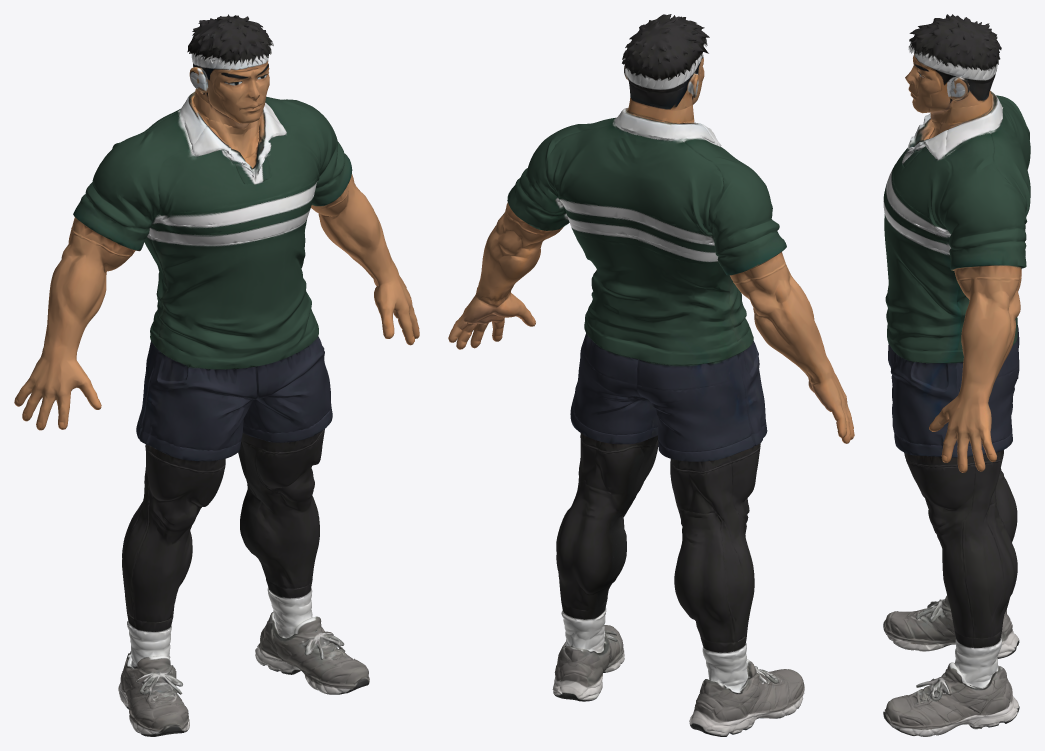
File: scrum_front.glb
3 views of the same model, side by side, from view 1: azimuth 30°, elevation 25°; view 2: azimuth 150°, elevation 25°; view 3: azimuth 270°, elevation 25° (orthographic).
Visible parts, largest first — view 1: tripo_node_26b4985a-06e5-4504-8efe-78fff79b02c9; view 2: tripo_node_26b4985a-06e5-4504-8efe-78fff79b02c9; view 3: tripo_node_26b4985a-06e5-4504-8efe-78fff79b02c9.
Boxes of the visible parts, bbox=[...] form: tripo_node_26b4985a-06e5-4504-8efe-78fff79b02c9: bbox=[14, 14, 419, 736]; tripo_node_26b4985a-06e5-4504-8efe-78fff79b02c9: bbox=[448, 14, 854, 736]; tripo_node_26b4985a-06e5-4504-8efe-78fff79b02c9: bbox=[883, 14, 1030, 736].
Bounding box in the file's own units: 1.15 × 1.88 × 0.3767.
1 material, 1 textured.
